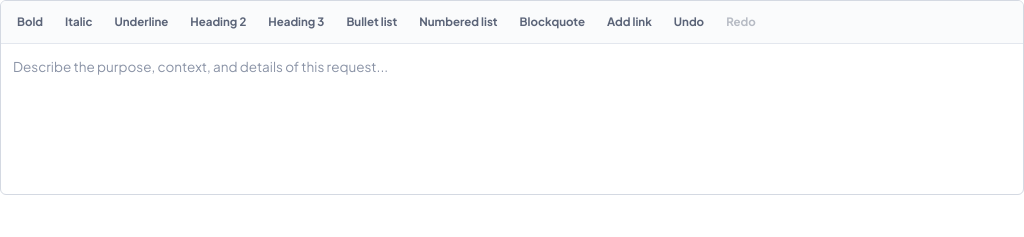
Test: RichTextEditor › rejects an unsafe link in the UI
The width and height of the screenshot is (1024, 237).
What coordinates should you click on to do the following:
click the button "Add link"
I would click on:
 (629, 22)
Its box is [598,8,661,36].
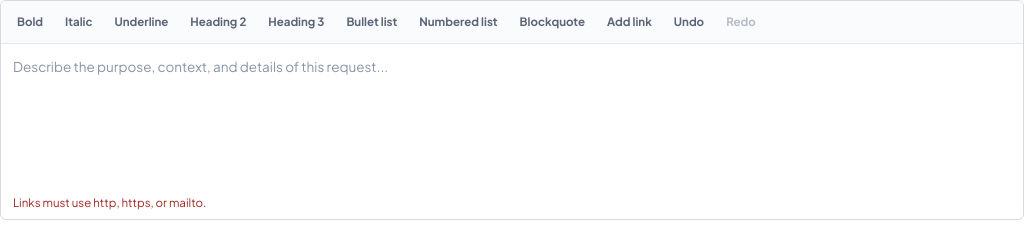
Expected: the message reads "Links must use http, https, or mailto.", [13,195,206,210]
